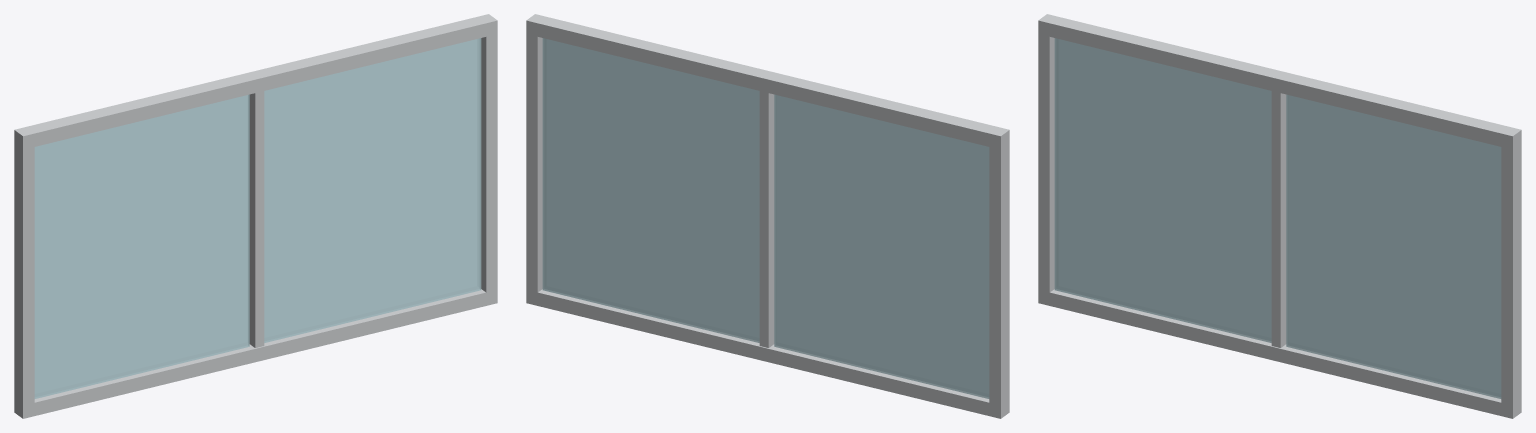
Rendered from baranda-aluminio-esmerilado.glb.
3 views of the same model, side by side, from view 1: azimuth 30°, elevation 25°; view 2: azimuth 150°, elevation 25°; view 3: azimuth 330°, elevation 25° (orthographic).
Parts seen in each view (by area): view 1: glass0.45, glass-0.45, rail1.0250000000000001, rail0.025, post-0.9, post0.9, center; view 2: glass0.45, glass-0.45, rail1.0250000000000001, rail0.025, post-0.9, post0.9, center; view 3: glass-0.45, glass0.45, rail1.0250000000000001, rail0.025, post0.9, post-0.9, center.
Part boxes in pixels (x1,y1,x2,y2): glass0.45: (264,38,481,342); glass-0.45: (34,94,249,398); rail1.0250000000000001: (26,15,491,147); rail0.025: (29,289,491,415); post-0.9: (14,127,34,418); post0.9: (478,14,497,305); center: (248,71,264,347); glass0.45: (542,38,759,342); glass-0.45: (774,94,989,398); rail1.0250000000000001: (532,15,999,148); rail0.025: (532,289,994,417); post-0.9: (989,127,1009,418); post0.9: (526,14,545,304); center: (759,71,775,347); glass-0.45: (1054,38,1271,342); glass0.45: (1286,94,1501,398); rail1.0250000000000001: (1044,15,1511,147); rail0.025: (1044,289,1506,417); post0.9: (1501,127,1521,418); post-0.9: (1038,14,1058,305); center: (1271,71,1287,347).
Size of the model in its own units: 1.85 by 1.05 by 0.06.
